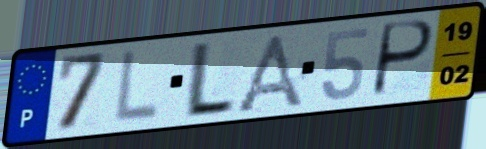5: (319, 25, 372, 102)
7: (55, 50, 111, 134)
A: (230, 30, 308, 112)
L: (178, 38, 239, 122), (109, 47, 163, 127)
P: (368, 18, 437, 100)
